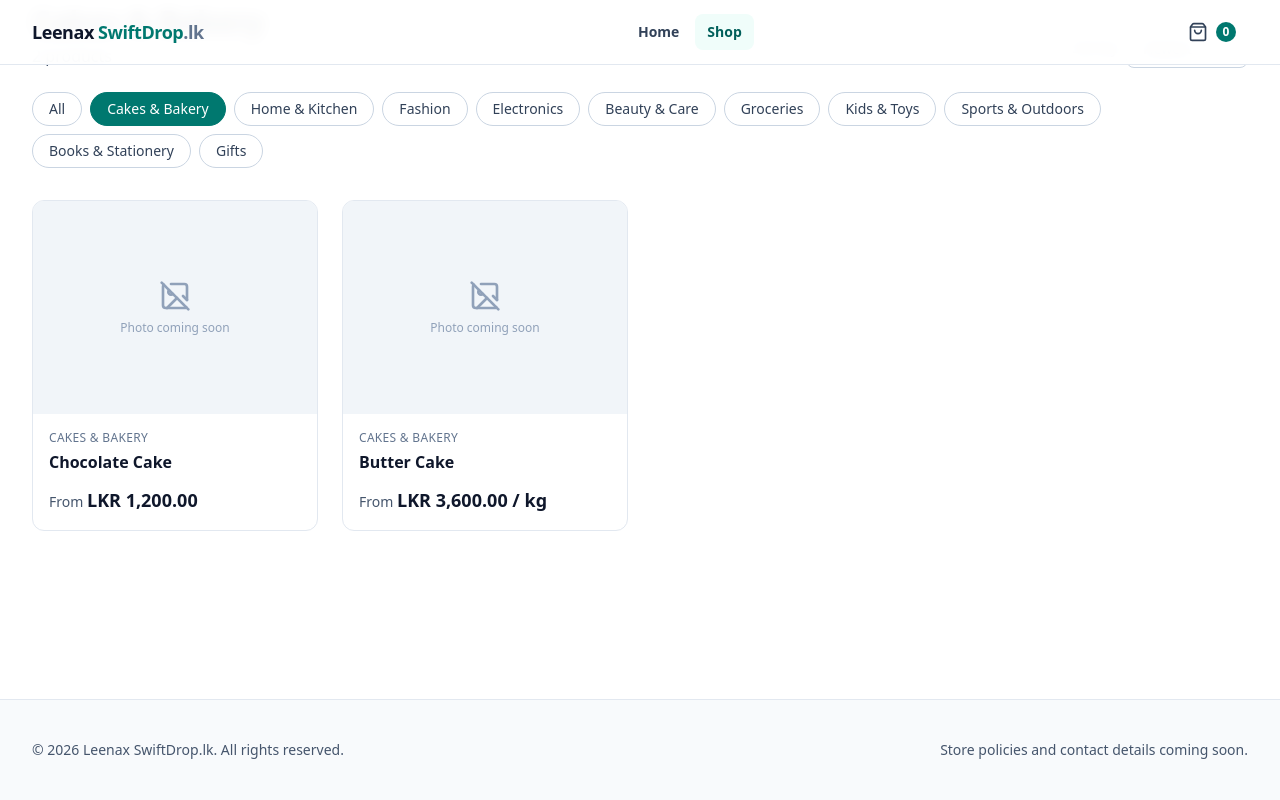
Scenario: product list page › filters by the category in the URL and can switch category
(page scrolled)
Expected: the heading "Cakes & Bakery" is shown, 32,4 -> 264,40
Expected: the number of links "Chocolate Cake" is 2, 49,451 -> 172,473; 359,451 -> 454,473
What coordinates should you click on to do the following:
click the link "Fashion"
I would click on:
 (425, 109)
Its box is 382,92 -> 468,126.
(page scrolled)
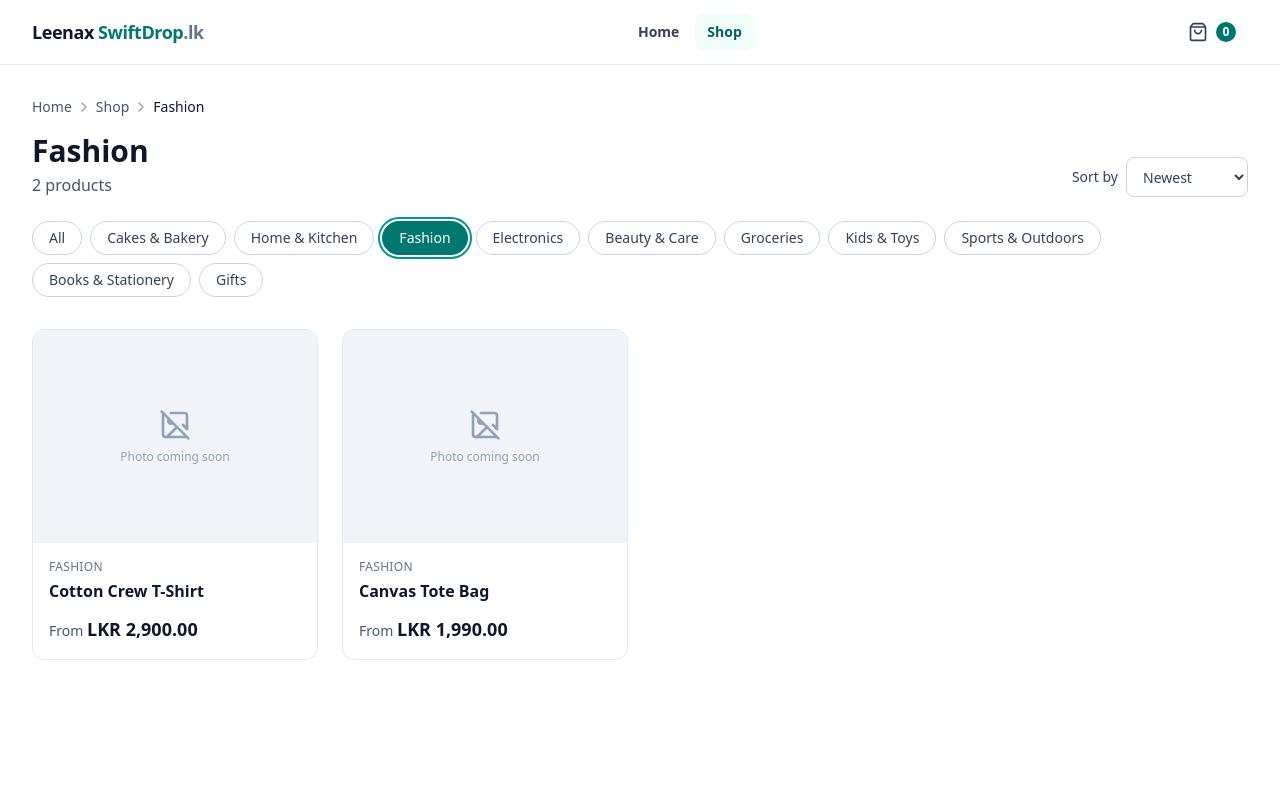
Expected: the link "Cotton Crew T-Shirt" is shown, 49,580 -> 204,602
Expected: the link "Chocolate Cake" is gone
